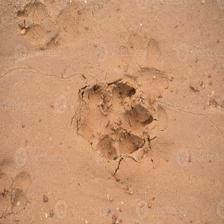dog: (69, 80, 154, 162)
